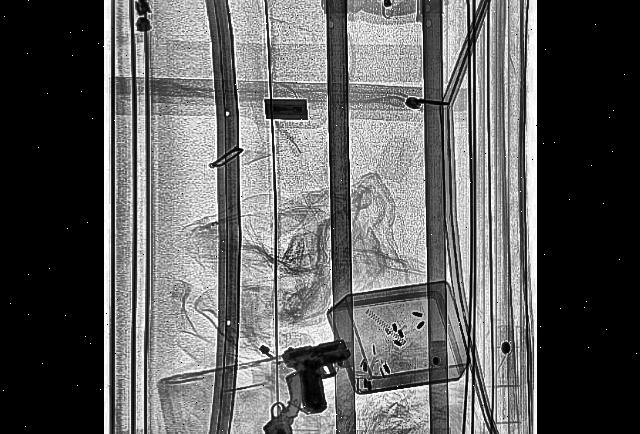Gun: (191, 373, 308, 434), (282, 340, 351, 422)
